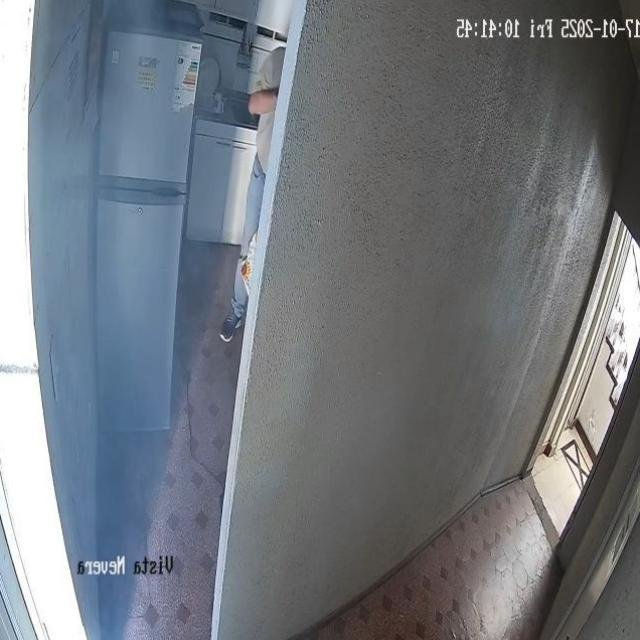fire: (24, 0, 205, 606)
